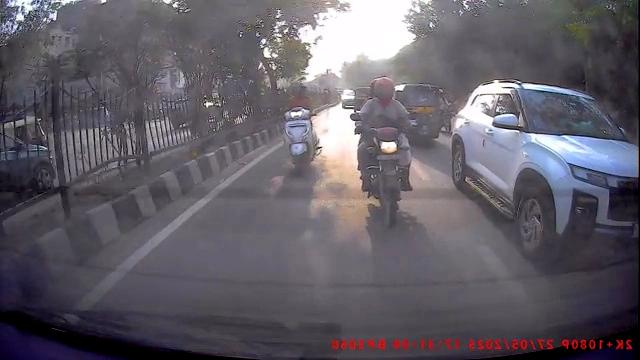motorcycle_with_helmet: (351, 74, 417, 229), (283, 84, 319, 173)
